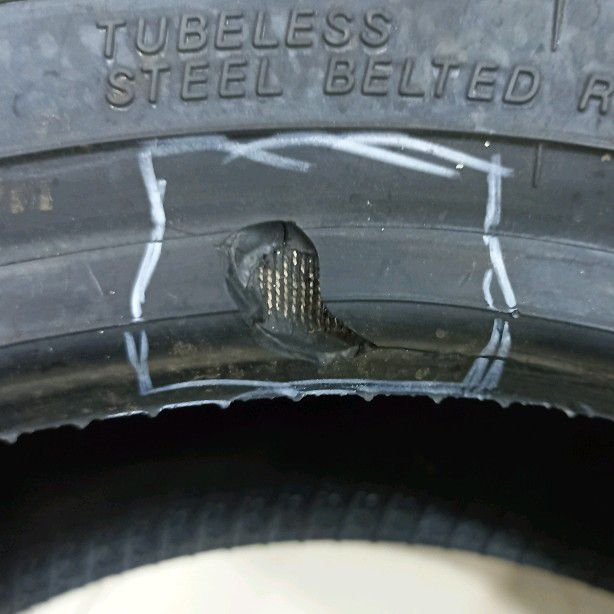bead_damage: (211, 220, 376, 377)
